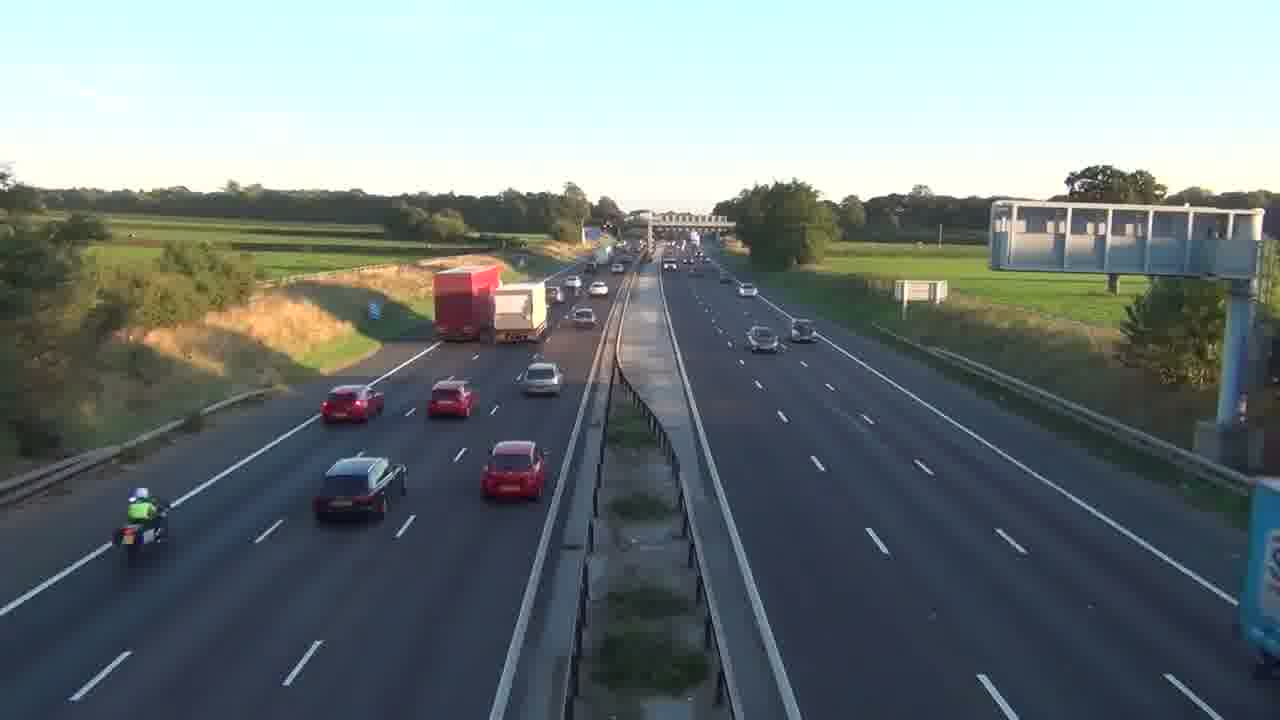car: (311, 456, 407, 522), (479, 440, 547, 502), (320, 383, 384, 423), (427, 377, 480, 419), (515, 362, 564, 397), (745, 325, 781, 354), (569, 304, 596, 327), (792, 321, 815, 342), (589, 280, 608, 296)
truck: (432, 264, 506, 342), (492, 284, 548, 345)
